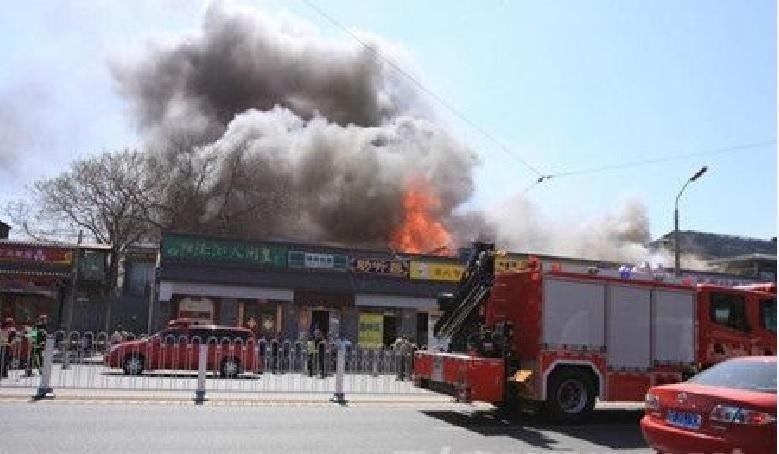fire: (390, 185, 451, 255)
